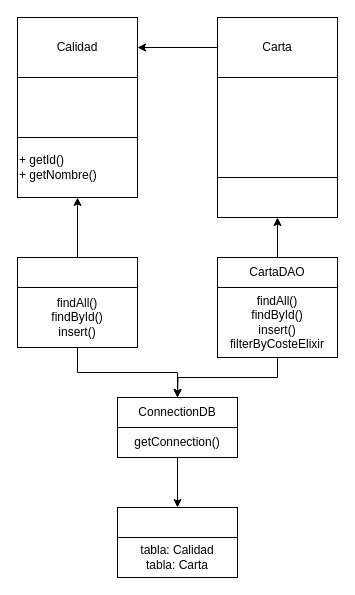
This 355x595 diagram has some shape labels left out. Each missing label, with the centre of its shape:
+ getters/setters: [277,197]
- id: int - nombre: String: [77,107]
- id: int - nombre: String - costeElixir: int - tipo: String - calidad: Calidad: [277,127]
CalidadDAO: [77,272]
Neon PostgreSQL: [177,522]
